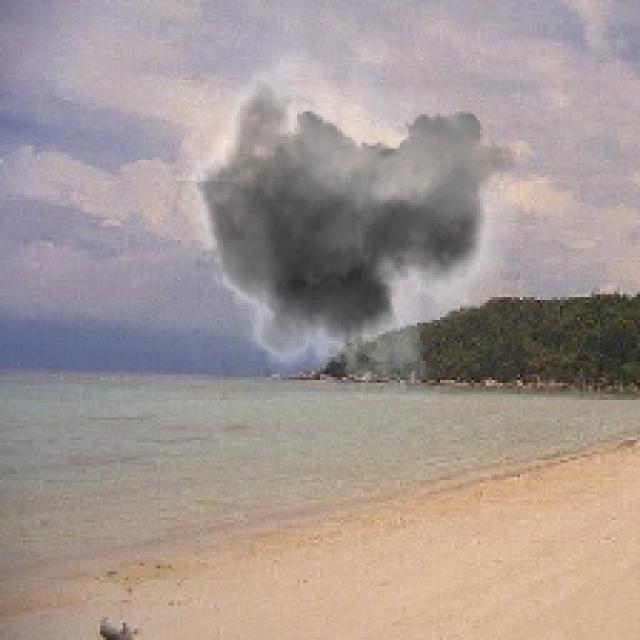Smoke: (165, 2, 518, 408)
